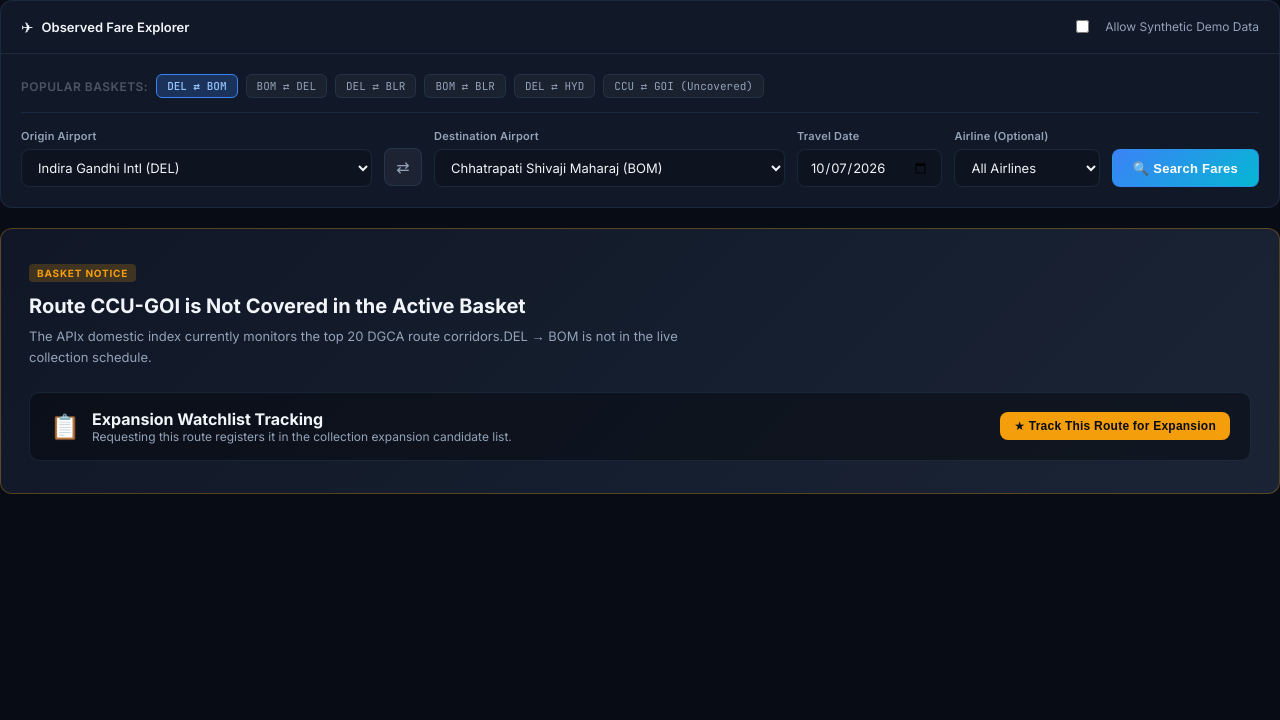
Test: FareExplorer Component › renders "Not covered" state and handles "Track this route" watchlist action
expect the heading "Route CCU-GOI is Not Covered in the Active Basket" is shown: met, box [29,294,526,318]
expect the text "BASKET NOTICE" is shown: met, box [29,264,136,282]
Click the button "★ Track This Route for Expansion". click: (1115, 426)
box: [1000,412,1230,440]
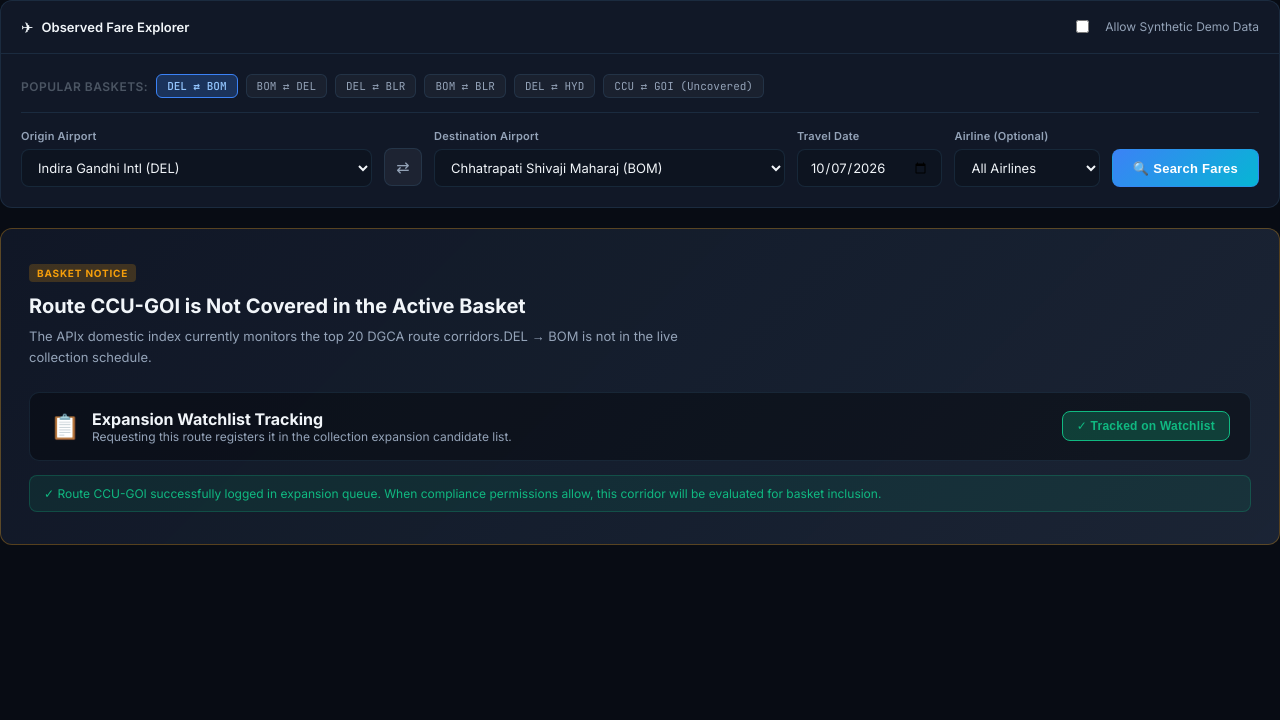
expect the button "✓ Tracked on Watchlist" is shown: met, box [1062,411,1230,441]
